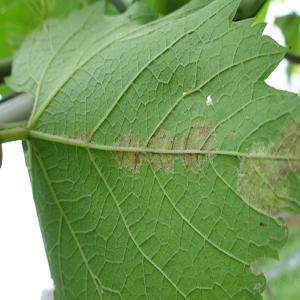Folha: (4, 0, 299, 298)
Fungo: (235, 116, 300, 217), (112, 116, 218, 176), (179, 116, 217, 174), (259, 222, 267, 226), (100, 288, 104, 293)
